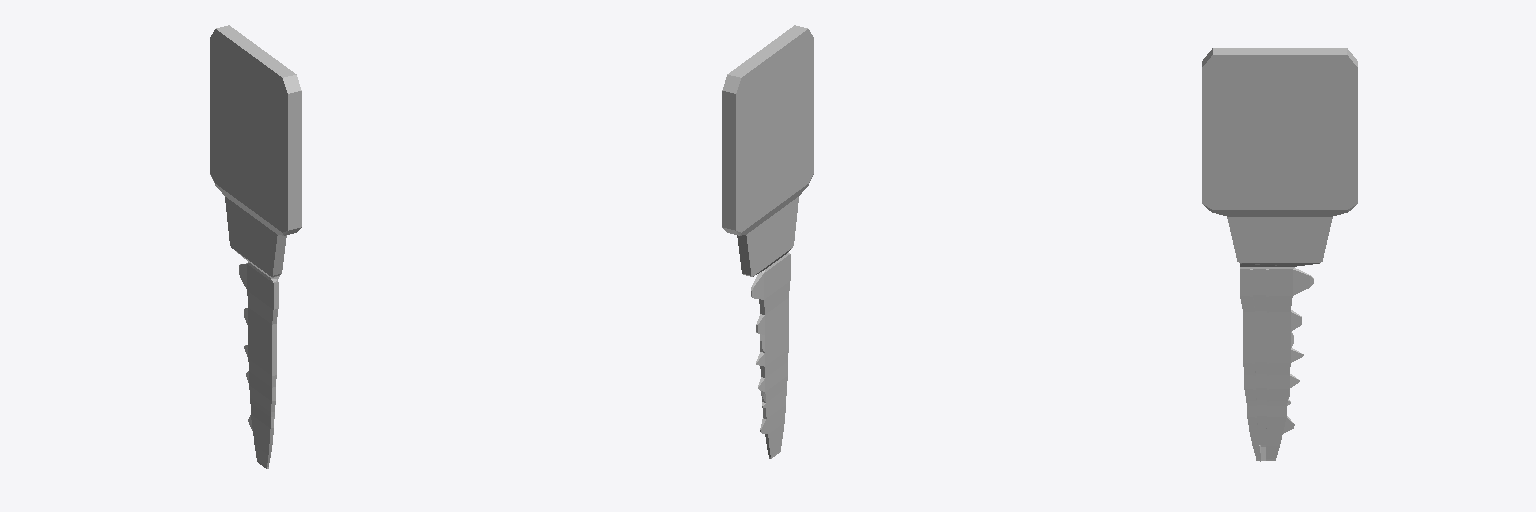
The model's file is KeyV2.obj.
3 renders of one model, left to right at view 1: azimuth 30°, elevation 25°; view 2: azimuth 150°, elevation 25°; view 3: azimuth 270°, elevation 25°, orthographic.
Parts seen in each view (by area): view 1: Cube; view 2: Cube; view 3: Cube.
Part boxes in pixels (x1,y1,x2,y2): Cube: (210,25,301,468); Cube: (722,25,813,458); Cube: (1202,48,1357,461).
Bounding box in the file's own units: 0.1547 × 4.33 × 1.49.